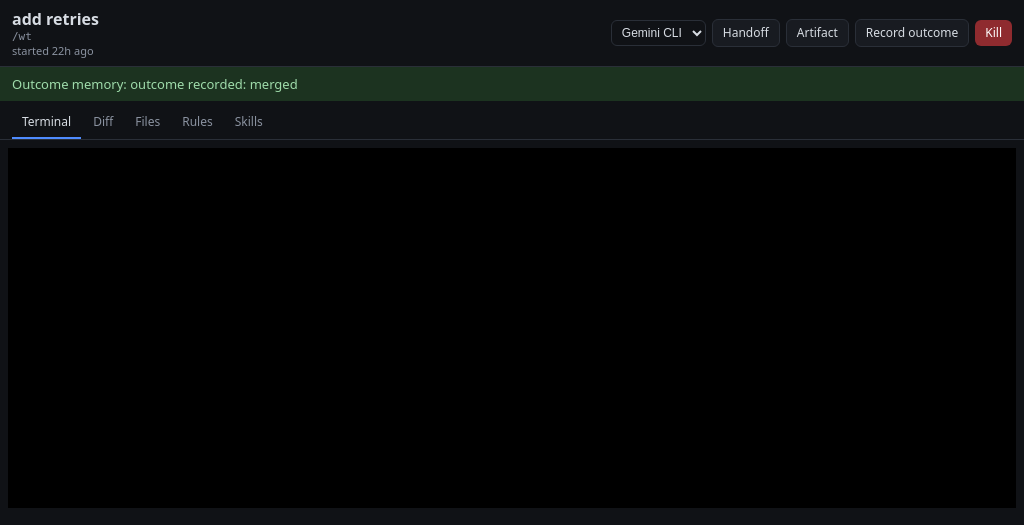
Test: SessionDetail › triage sessions record their outcome automatically on completion
Expected: the text with test id "outcome-banner" shows "outcome recorded: merged", [130,75,298,93]
Click the button with test id "outcome-button" at (912, 33), box [855,19,969,47]
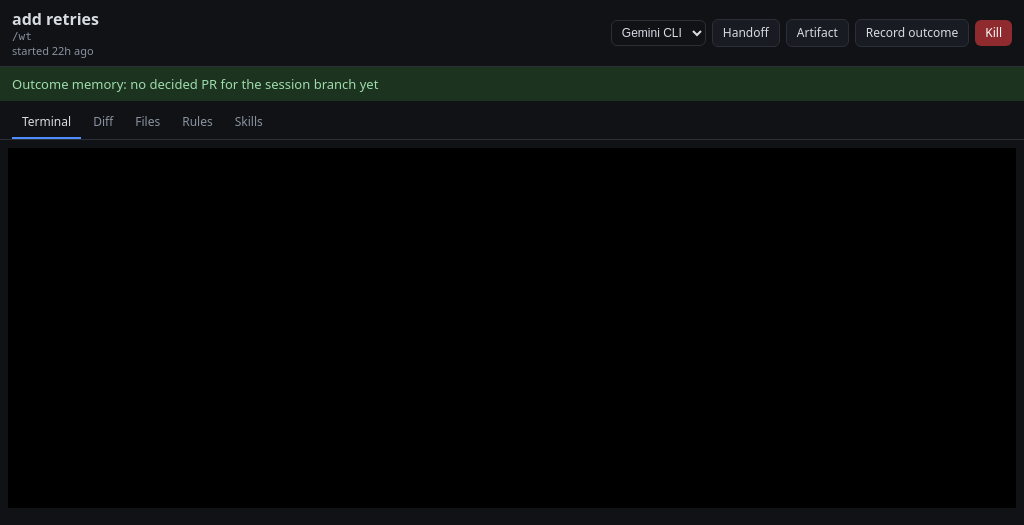
Expected: the text with test id "outcome-banner" shows "no decided PR", [130,75,378,93]
